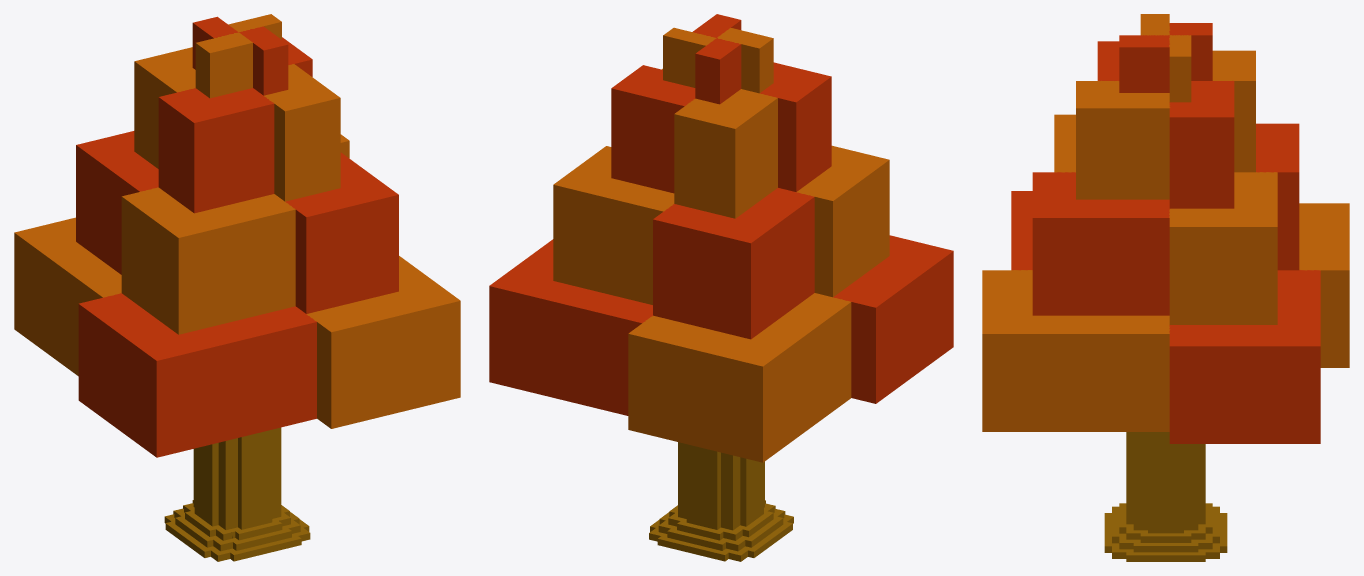
File: tree02-1.fbx
3 renders of one model, left to right at view 1: azimuth 30°, elevation 25°; view 2: azimuth 150°, elevation 25°; view 3: azimuth 270°, elevation 25°, orthographic.
Visible parts, largest first — view 1: Tree02-1, Tree02-Stem, Tree02-Root; view 2: Tree02-1, Tree02-Stem, Tree02-Root; view 3: Tree02-1, Tree02-Stem, Tree02-Root.
Boxes of the visible parts, left/top/right/bottom form: Tree02-1: left=14, top=14, right=460, bottom=457; Tree02-Stem: left=193, top=427, right=281, bottom=529; Tree02-Root: left=164, top=500, right=310, bottom=561; Tree02-1: left=489, top=14, right=953, bottom=462; Tree02-Stem: left=678, top=442, right=764, bottom=530; Tree02-Root: left=649, top=500, right=793, bottom=561; Tree02-1: left=982, top=14, right=1349, bottom=443; Tree02-Stem: left=1126, top=432, right=1205, bottom=533; Tree02-Root: left=1104, top=503, right=1227, bottom=561.
Bounding box in the file's own units: 510 × 770 × 510.
